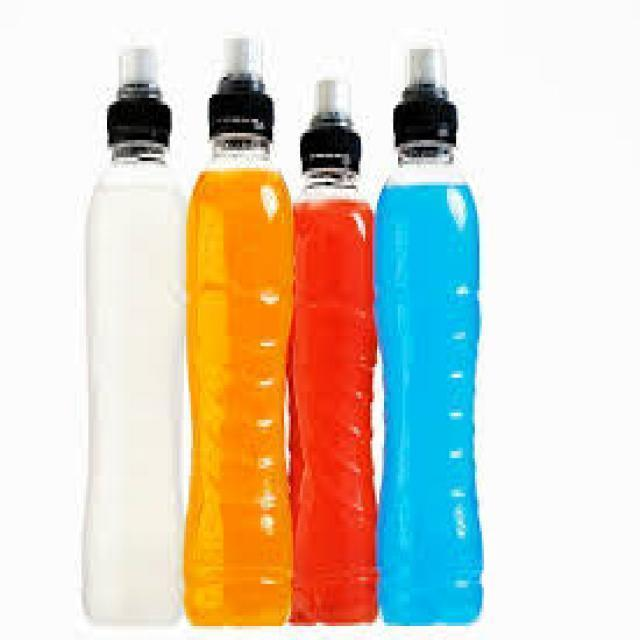Plastic: (179, 34, 290, 628), (376, 49, 487, 630), (89, 44, 187, 628), (290, 77, 380, 625)
